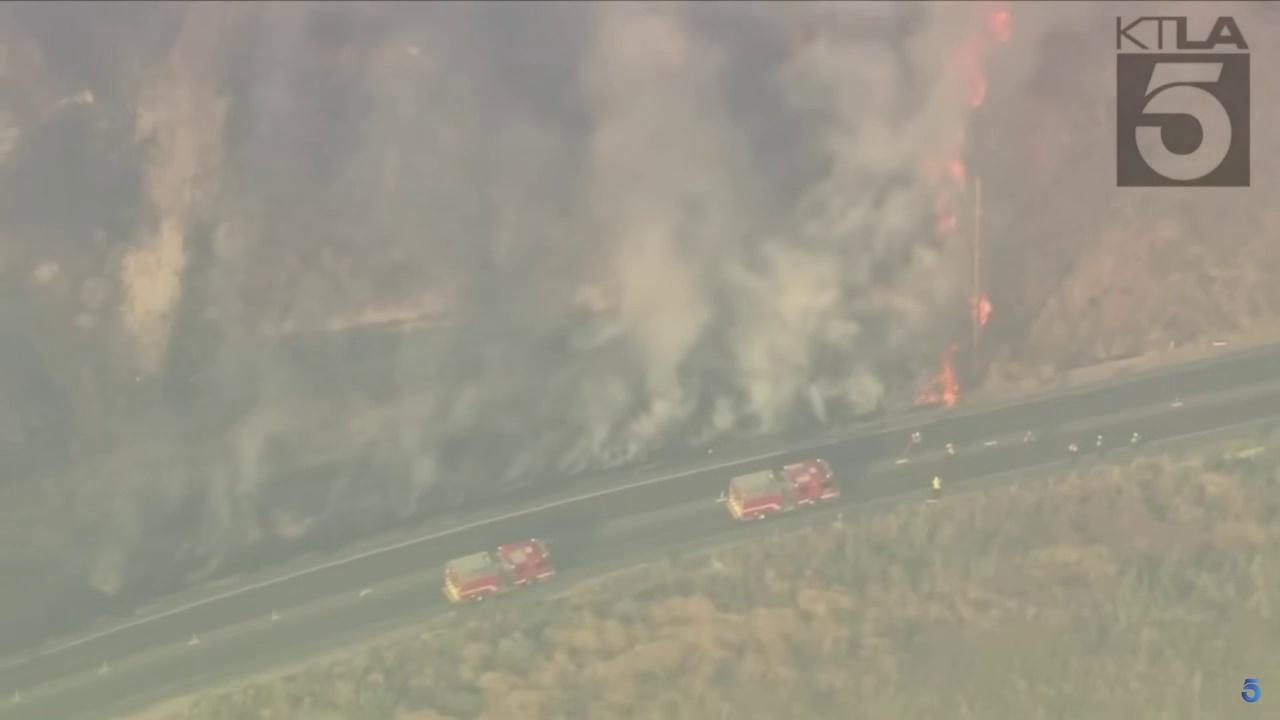fire: (964, 9, 1013, 110), (911, 337, 961, 410), (948, 153, 966, 193), (979, 290, 993, 328), (935, 213, 959, 232)
smoke: (0, 0, 1056, 608)
